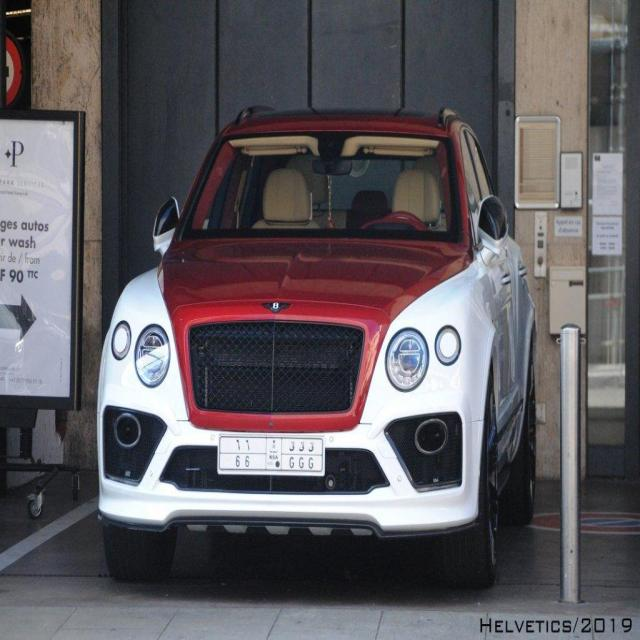license_plate: (214, 429, 329, 480)
